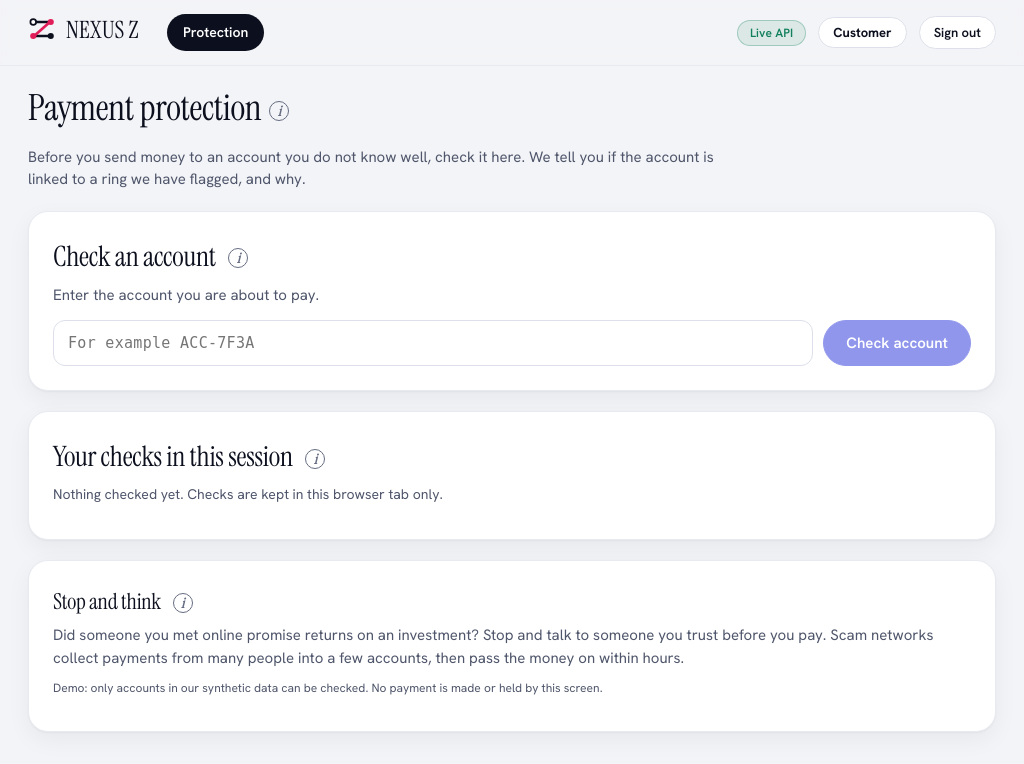
Test case: customer check › says so when the account is not in the data, and keeps the check in the session list
The width and height of the screenshot is (1024, 764).
Type "ACC-NOPE" into the field named "Recipient account".
click(433, 343); type("ACC-NOPE")  # box 53,320 -> 813,366
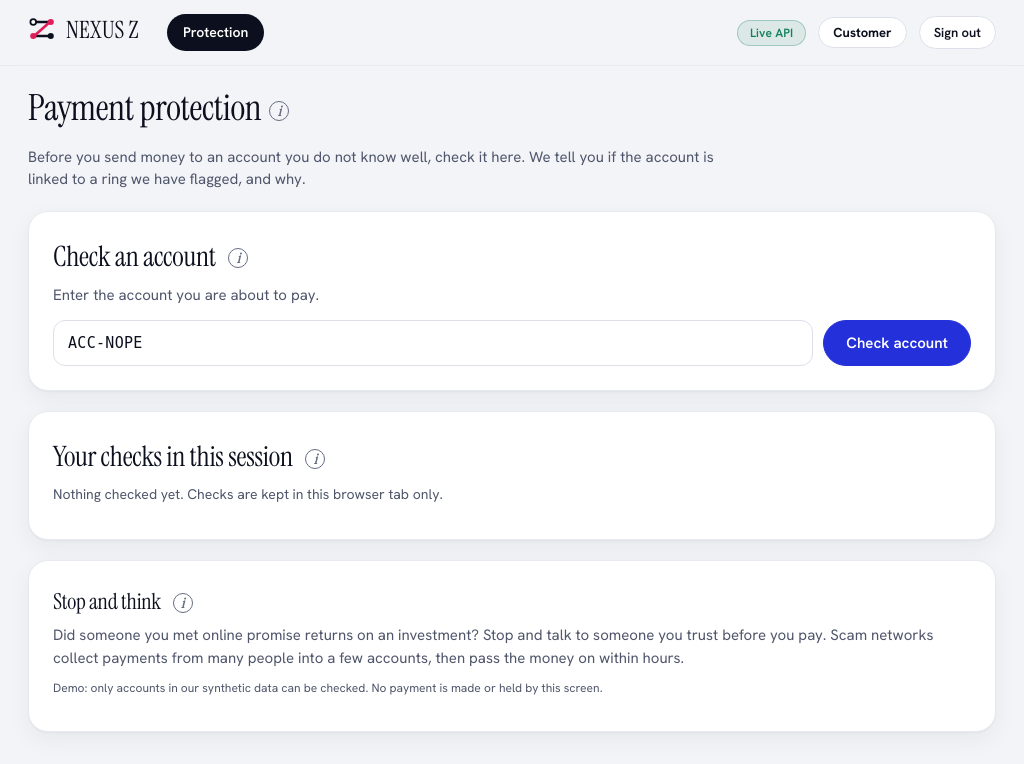
Click the button "Check account".
click(897, 343)  # box 823,320 -> 971,366
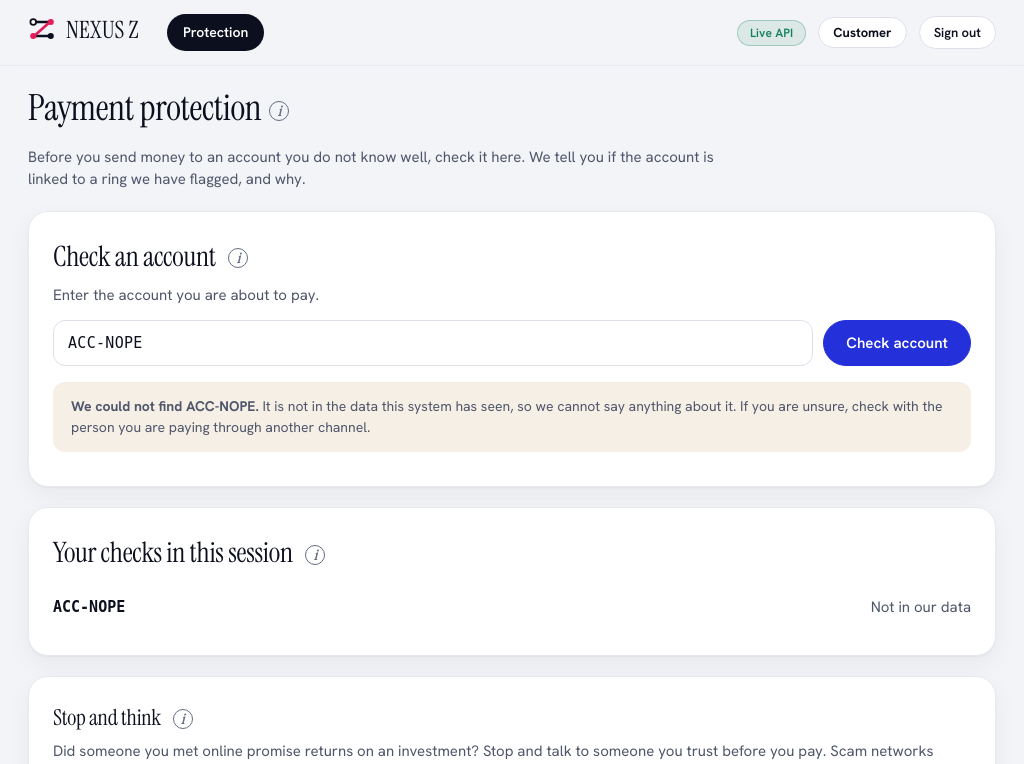
Result: the message shows "could not find ACC-NOPE" at 53,382 -> 971,452
Result: the text "Not in our data" is shown at 871,596 -> 971,619
